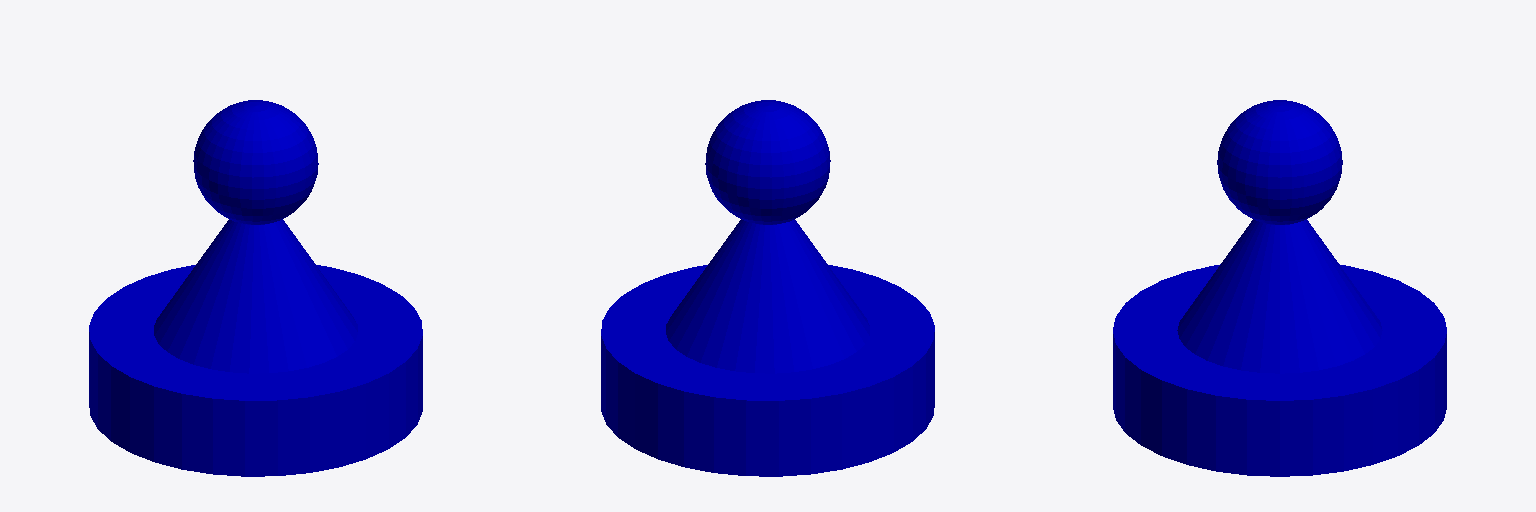
Rendered from pionek.obj.
The picture shows the model from 3 angles: view 1: azimuth 30°, elevation 25°; view 2: azimuth 150°, elevation 25°; view 3: azimuth 270°, elevation 25°; orthographic projection.
Parts seen in each view (by area): view 1: Walec; view 2: Walec; view 3: Walec.
Boxes of the visible parts, x1=… form: Walec: x1=89, y1=100, x2=422, y2=476; Walec: x1=601, y1=100, x2=934, y2=476; Walec: x1=1113, y1=100, x2=1446, y2=476.
Size of the model in its own units: 0.8 by 0.7923 by 0.8.